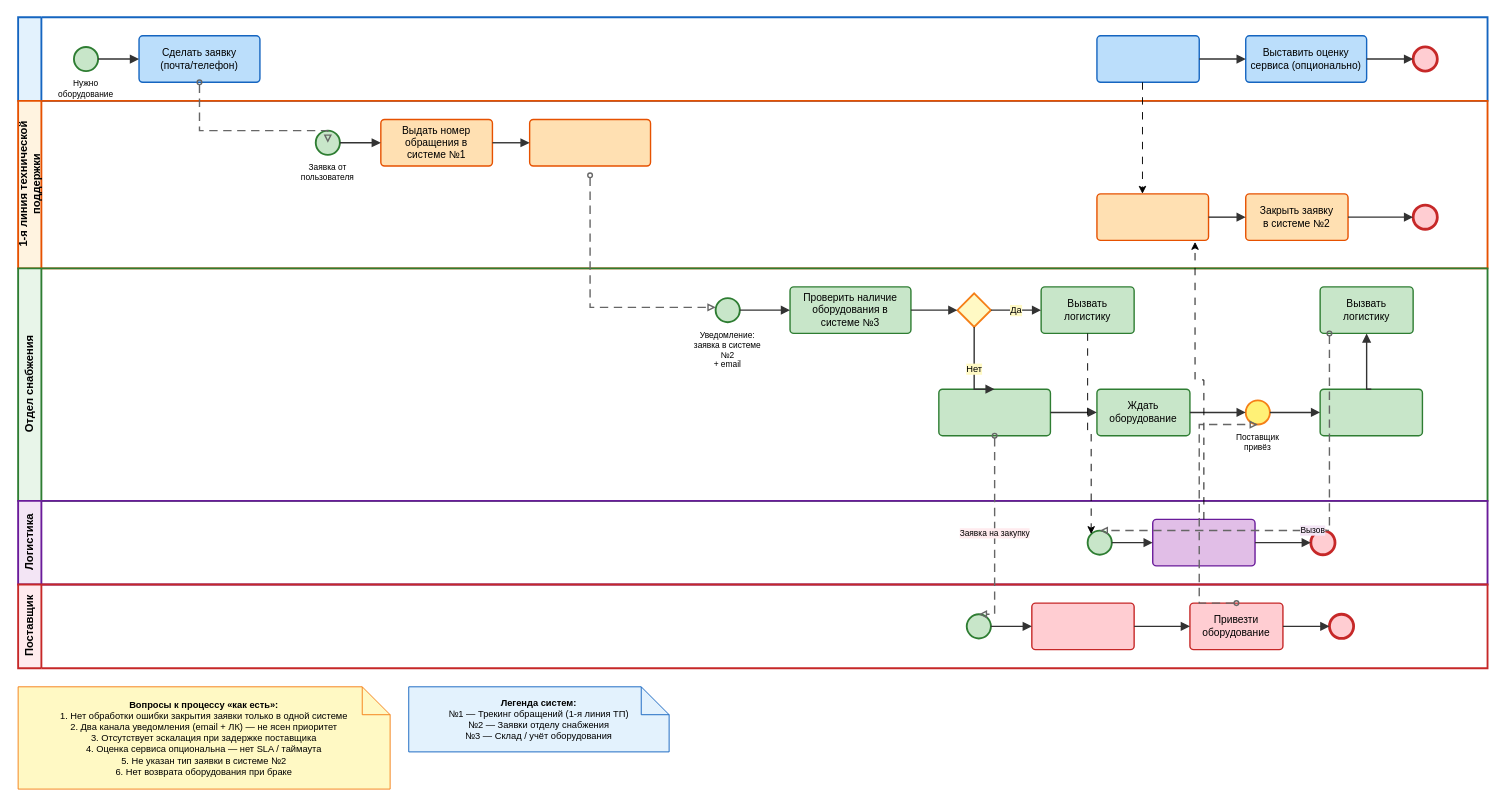
Some shapes in this 1504 by 805 pixel diagram are drawn without their labels. Here are the shapes that lost their labels. From the top down, the box of each, then its label:
(17, 16, 1488, 101): Пользователь офиса
(1096, 35, 1200, 83): Получить оборудование
(529, 118, 651, 166): Создать заявку в системе №2 для отдела снабжения
(1096, 193, 1209, 241): Закрыть заявку пользователя в системе №1
(938, 388, 1051, 436): Сделать заявку на закупку поставщику (email)
(1319, 388, 1423, 436): Принять оборудование в системе №3
(1152, 518, 1255, 566): Доставить оборудование 1-й линии ТП
(1031, 602, 1134, 650): Обработать заявку на закупку
